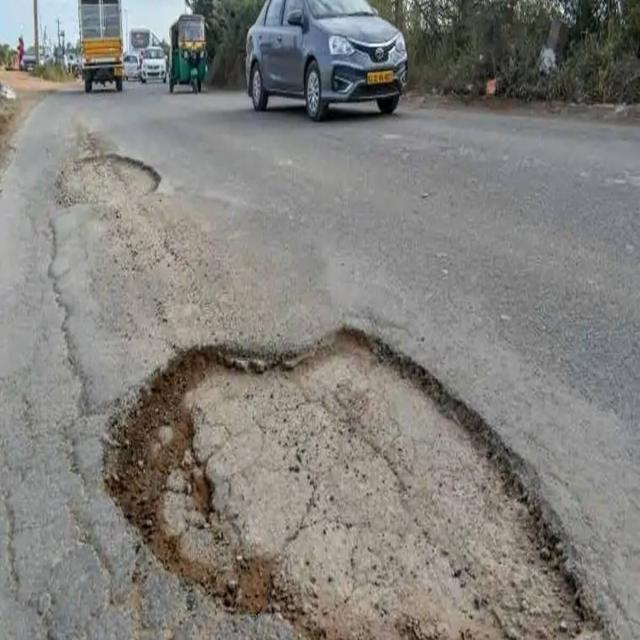road-pothole: (93, 322, 619, 639), (54, 150, 165, 215)
